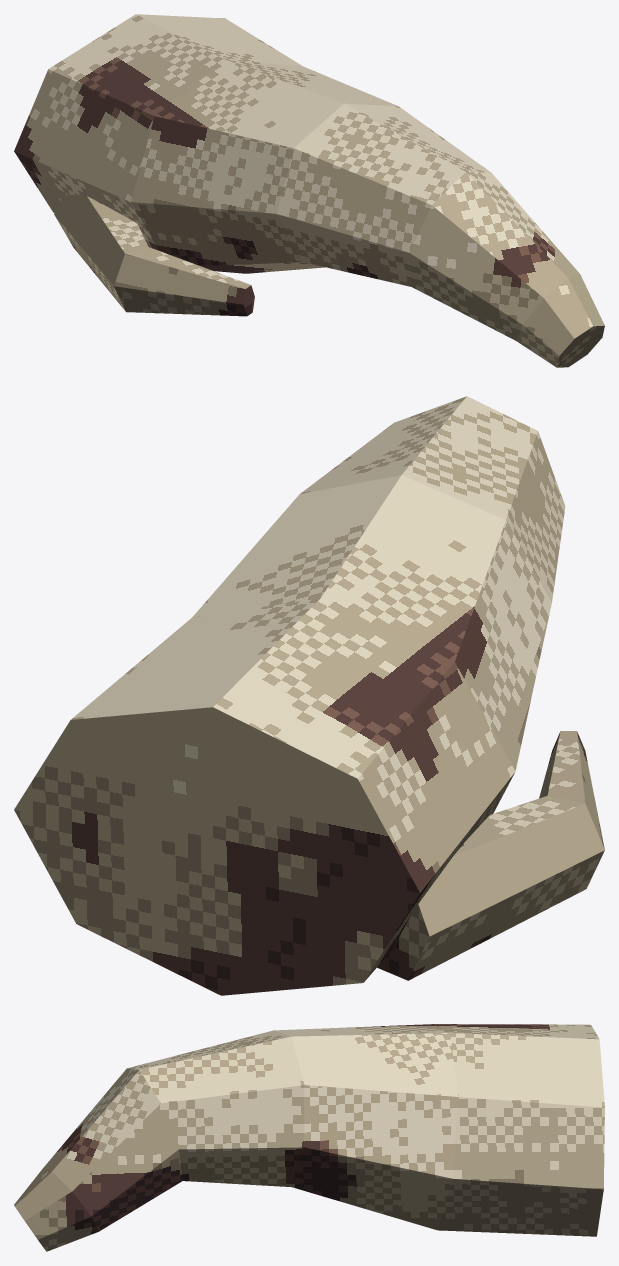
Rendered from SM_Prop_CreatureCrackedClaw_01.glb.
3 renders of one model, top to bottom at view 1: azimuth 30°, elevation 25°; view 2: azimuth 150°, elevation 25°; view 3: azimuth 270°, elevation 25°, orthographic. The views are drawn at different scales.
Visible parts, largest first — view 1: bone_claw, bone_claw_split; view 2: bone_claw, bone_claw_split; view 3: bone_claw.
Boxes of the visible parts, left/top/right/bottom form: bone_claw: left=14, top=14, right=604, bottom=367; bone_claw_split: left=54, top=194, right=254, bottom=316; bone_claw: left=14, top=396, right=565, bottom=995; bone_claw_split: left=377, top=731, right=604, bottom=980; bone_claw: left=14, top=1024, right=604, bottom=1251.
Bounding box in the file's own units: 0.2854 × 0.1984 × 0.5221.
Materials: 1 (1 with a texture image).
